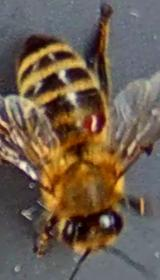varroa_mite: (74, 106, 120, 140)
